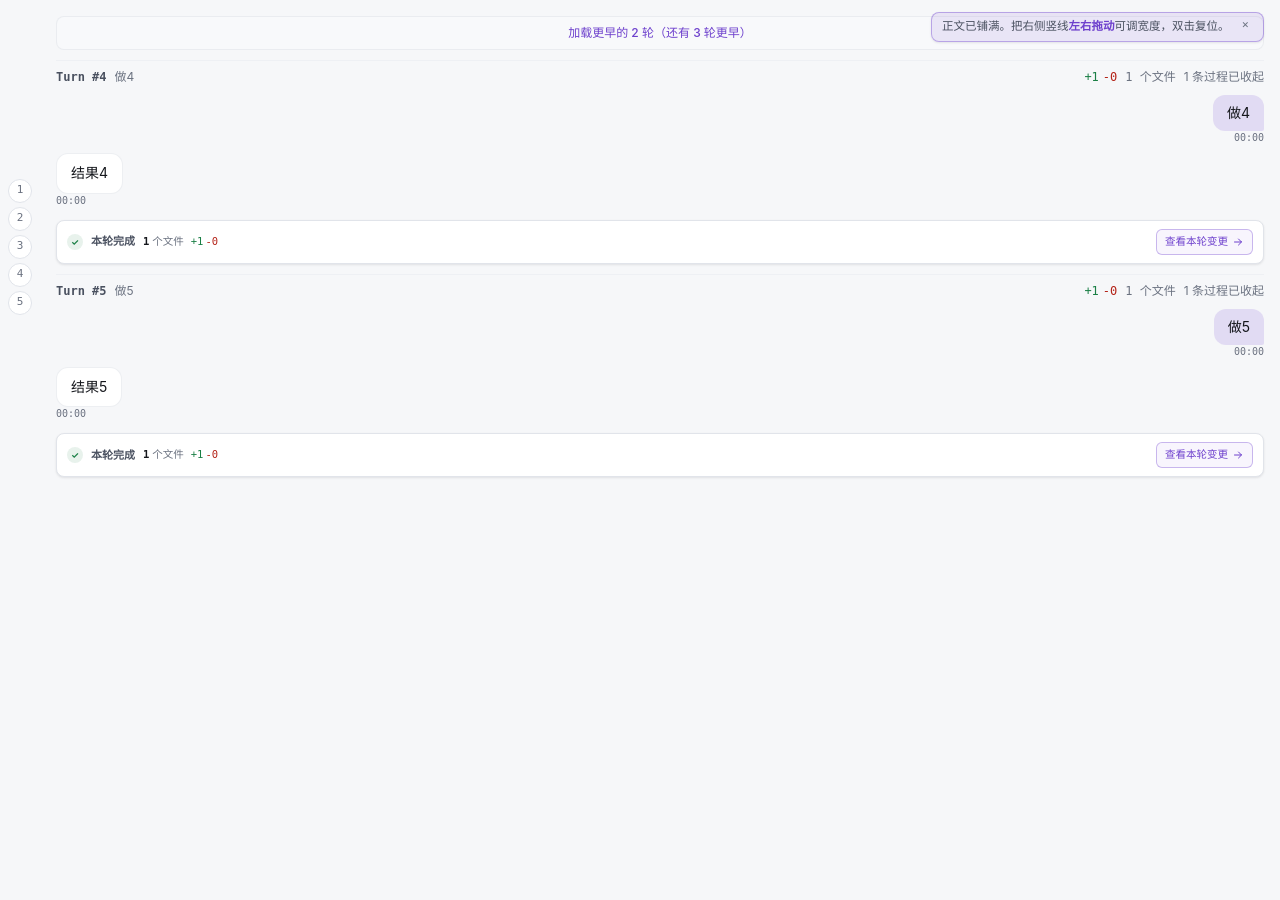
Test: 需求 2：只挂载最近两个 Turn › 剩 3 轮时按钮只承诺补 3 轮（步长取剩余），点完到顶
This screenshot has width=1280, height=900.
Click the button with test id "load-older-turns". click: (660, 33)
box: [56, 16, 1264, 50]
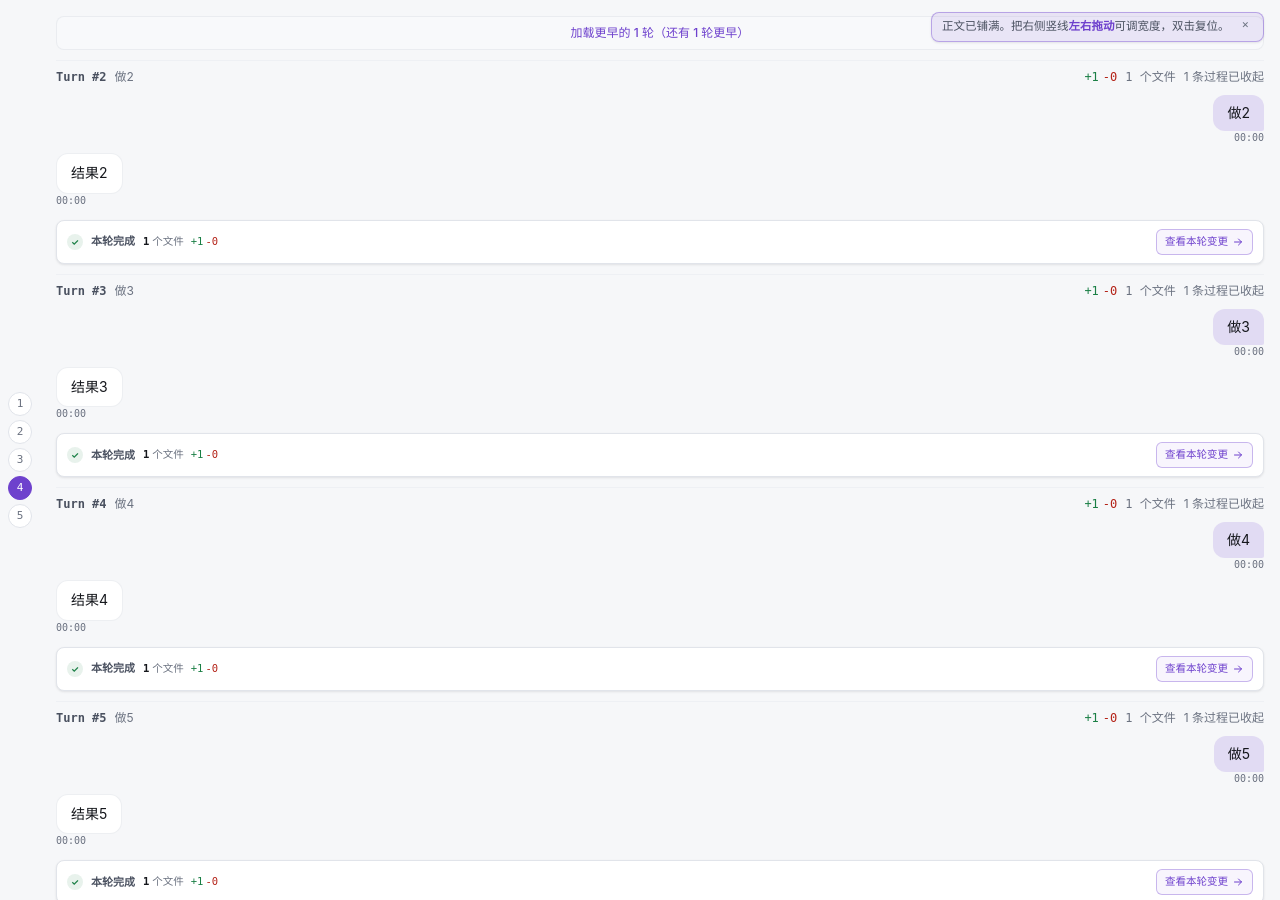
Expected: the button with test id "load-older-turns" shows "加载更早的 1 轮"
Expected: the button with test id "load-older-turns" shows "还有 1 轮更早"
Click the button with test id "load-older-turns". click: (660, 33)
box: [56, 16, 1264, 50]
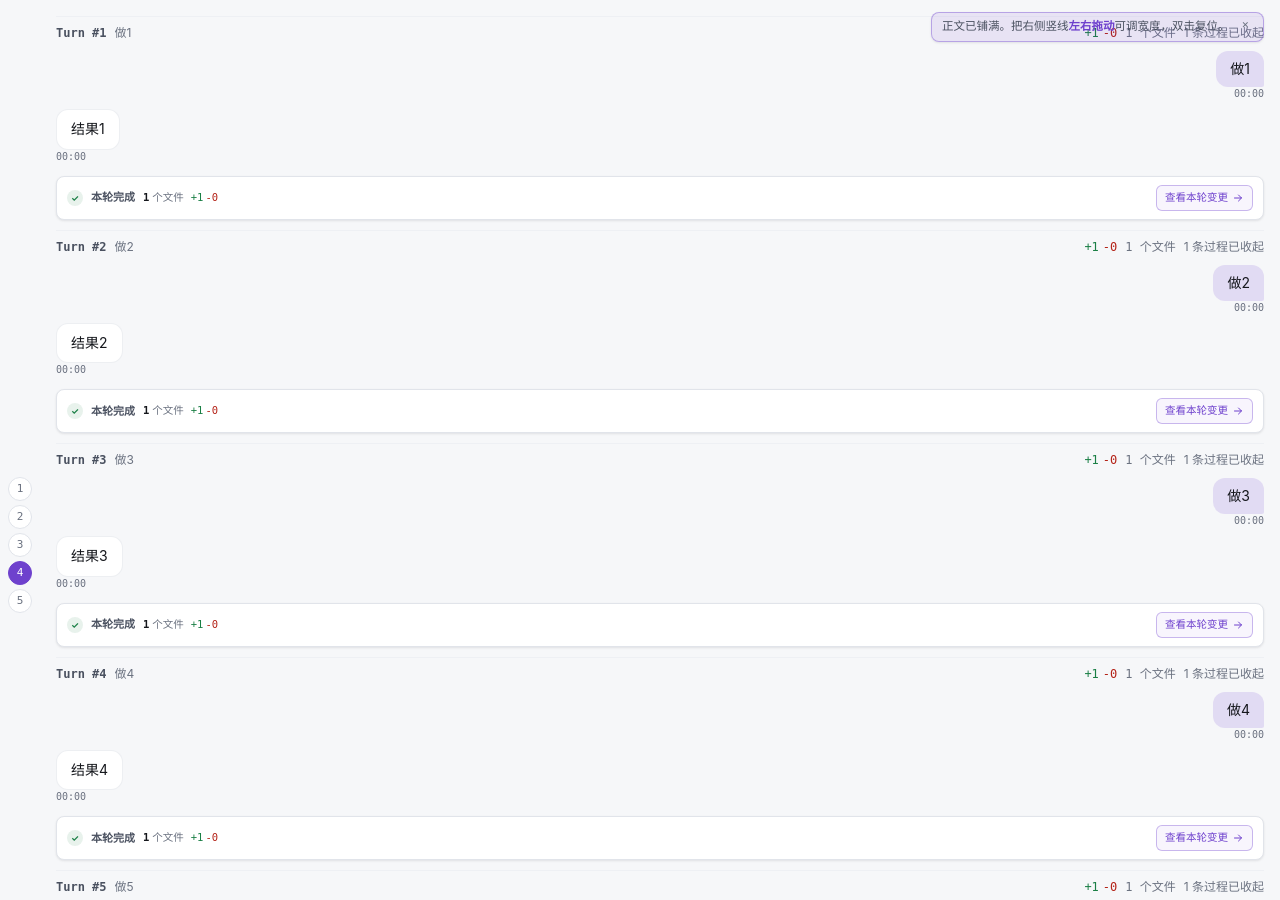
Expected: the button with test id "load-older-turns" is gone
